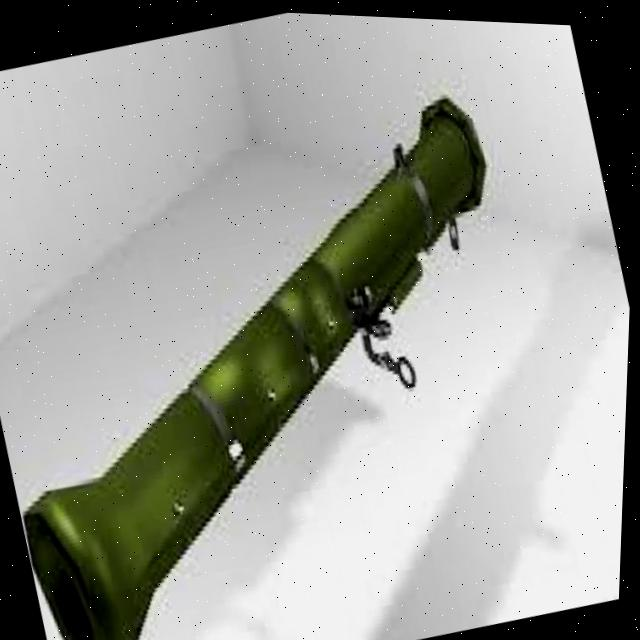rocket: (0, 63, 590, 640)
